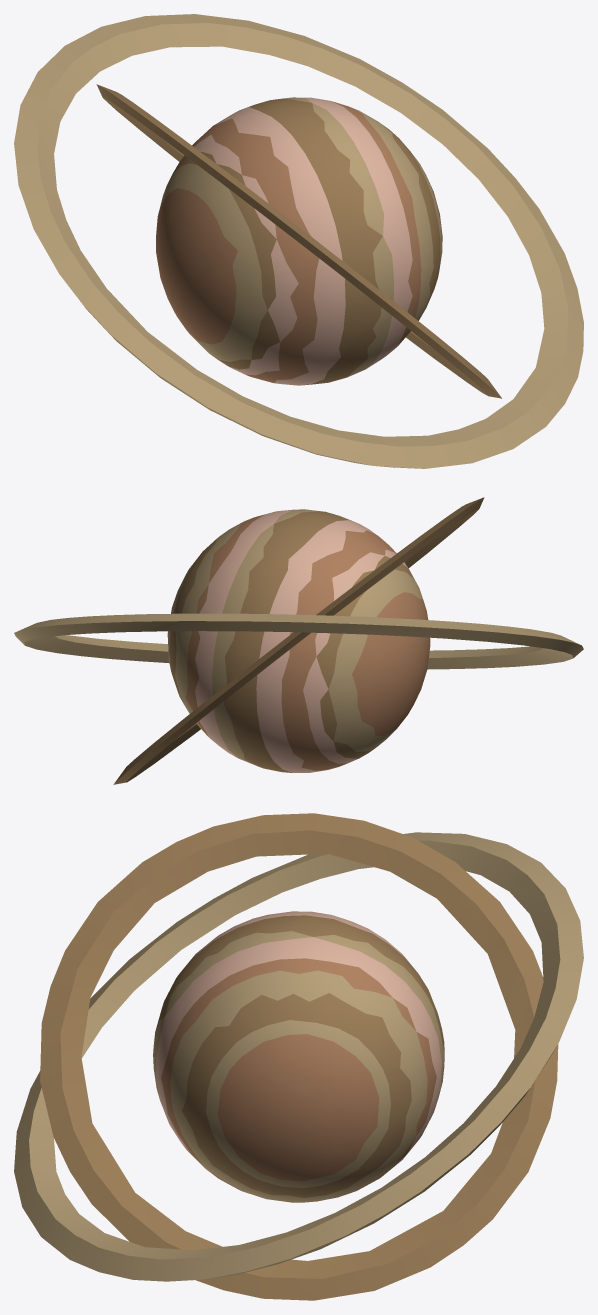
The model's file is planet-7.glb.
3 renders of one model, top to bottom at view 1: azimuth 30°, elevation 25°; view 2: azimuth 150°, elevation 25°; view 3: azimuth 270°, elevation 25°, orthographic. The views are drawn at different scales.
Parts seen in each view (by area): view 1: Planet_7; view 2: Planet_7; view 3: Planet_7.
Part boxes in pixels (x1,y1,x2,y2): Planet_7: (14, 14, 583, 468); Planet_7: (14, 497, 583, 784); Planet_7: (14, 813, 583, 1300).
Size of the model in its own units: 200 by 119 by 185.
Materials: 1 (1 with a texture image).
